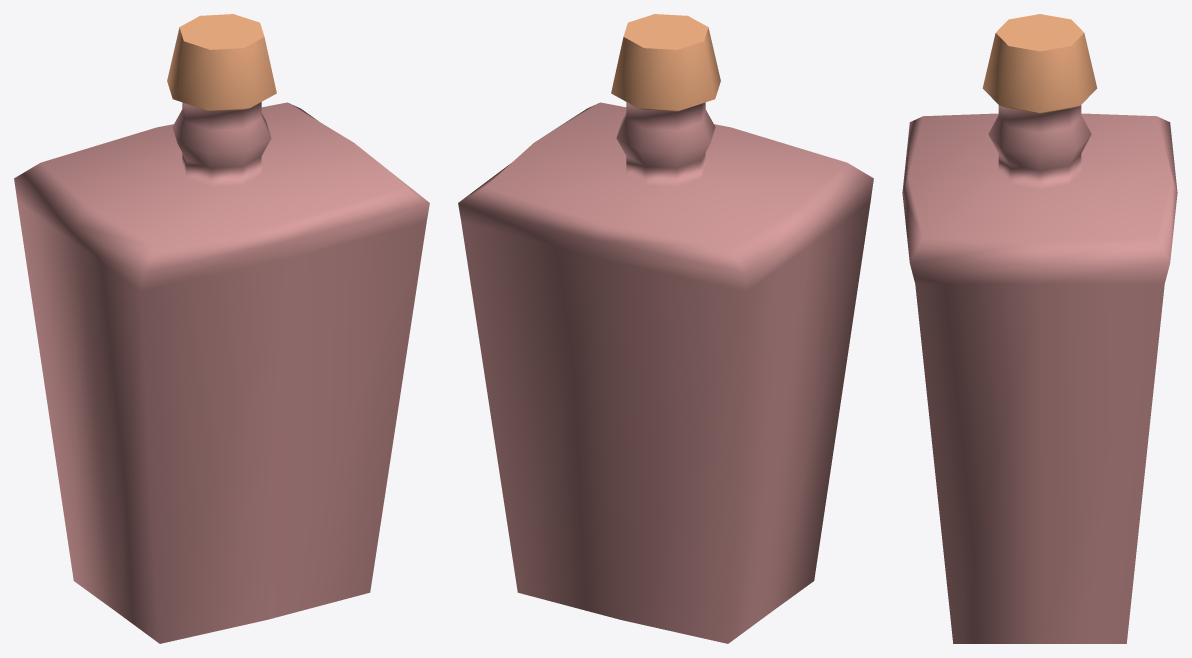
File: BAR_LiqourBottle06_Body.fbx
3 views of the same model, side by side, from view 1: azimuth 30°, elevation 25°; view 2: azimuth 150°, elevation 25°; view 3: azimuth 270°, elevation 25° (orthographic).
Visible parts, largest first — view 1: Bottle06_Body; view 2: Bottle06_Body; view 3: Bottle06_Body.
Part boxes in pixels (x1=…): Bottle06_Body: x1=14, y1=14, x2=429, y2=643; Bottle06_Body: x1=458, y1=14, x2=873, y2=643; Bottle06_Body: x1=902, y1=14, x2=1177, y2=643.
Bounding box in the file's own units: 11.03 × 20.23 × 9.01.
